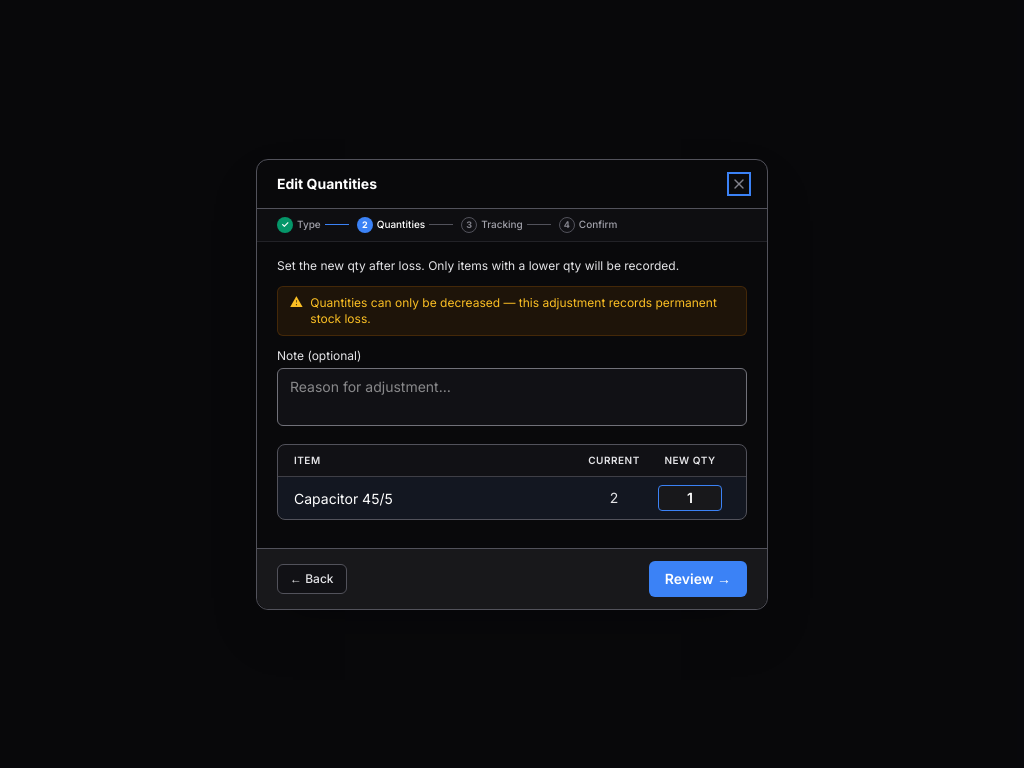
it: serial preselection via initialSerialUnitId › preselects the given unit in the picker
Click the button "Review →" at (698,578), box [649, 560, 747, 596]
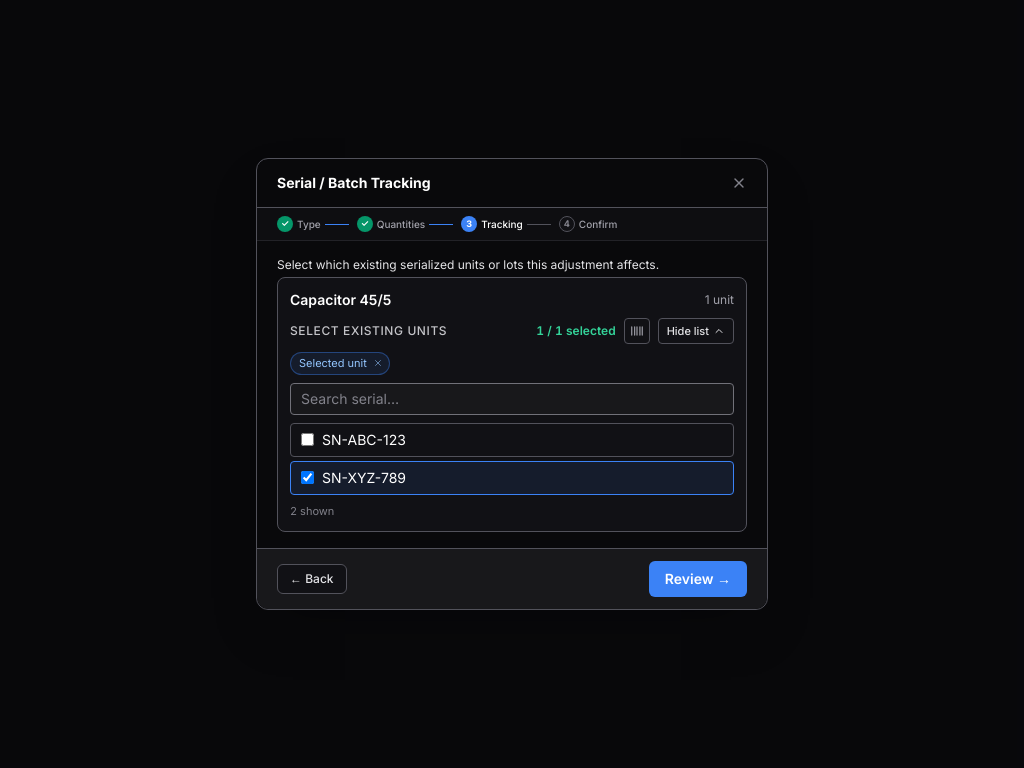
Result: the checkbox named "Select unit SN-XYZ-789" is checked at [301, 471, 314, 484]
Result: the checkbox named "Select unit SN-ABC-123" is not checked at [301, 433, 314, 446]
